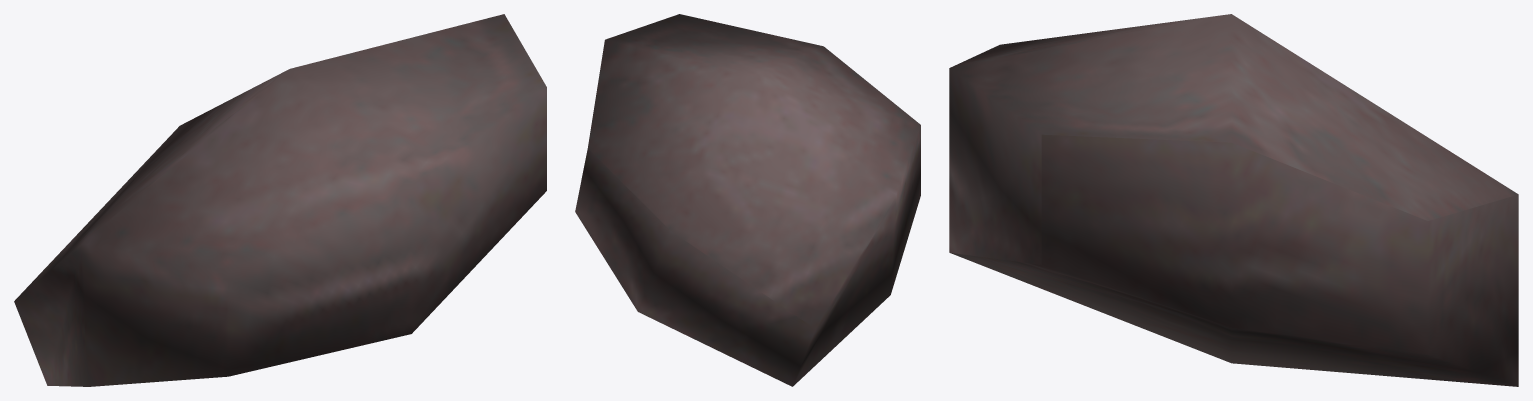
Rendered from projectile_stone.FBX.
3 renders of one model, left to right at view 1: azimuth 30°, elevation 25°; view 2: azimuth 150°, elevation 25°; view 3: azimuth 270°, elevation 25°, orthographic. The views are drawn at different scales.
Visible parts, largest first — view 1: Projectile_stone; view 2: Projectile_stone; view 3: Projectile_stone.
Part boxes in pixels (bbox=[...]): Projectile_stone: bbox=[14, 14, 546, 386]; Projectile_stone: bbox=[575, 14, 920, 386]; Projectile_stone: bbox=[949, 14, 1518, 386].
Size of the model in its own units: 41.51 by 38.39 by 32.7.
